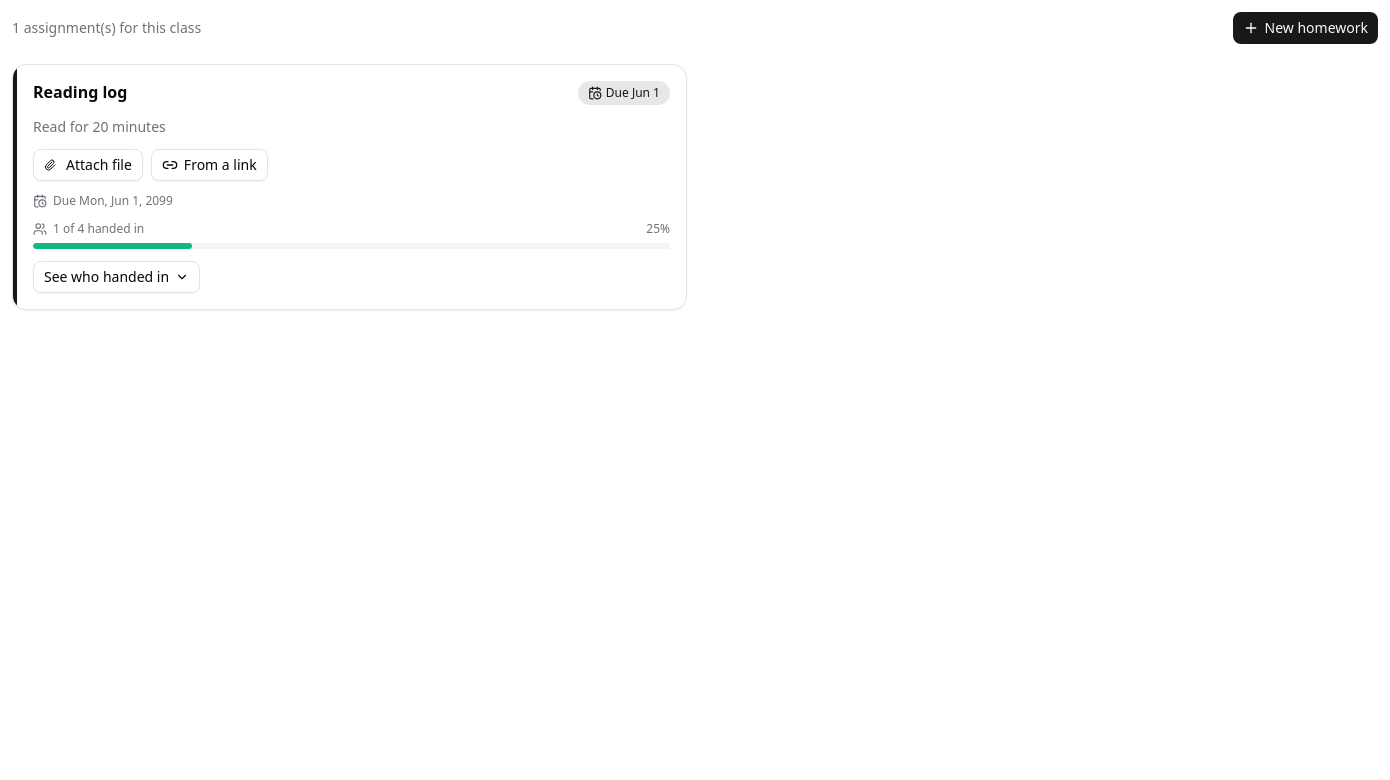
Test case: homework page for a teacher › shows how many have handed in, lists who, and opens the form for new homework
Check: the text "1 of 4 handed in" is shown, box [33,221,144,237]
Click the button "See who handed in": (117,277) [33,261,200,293]
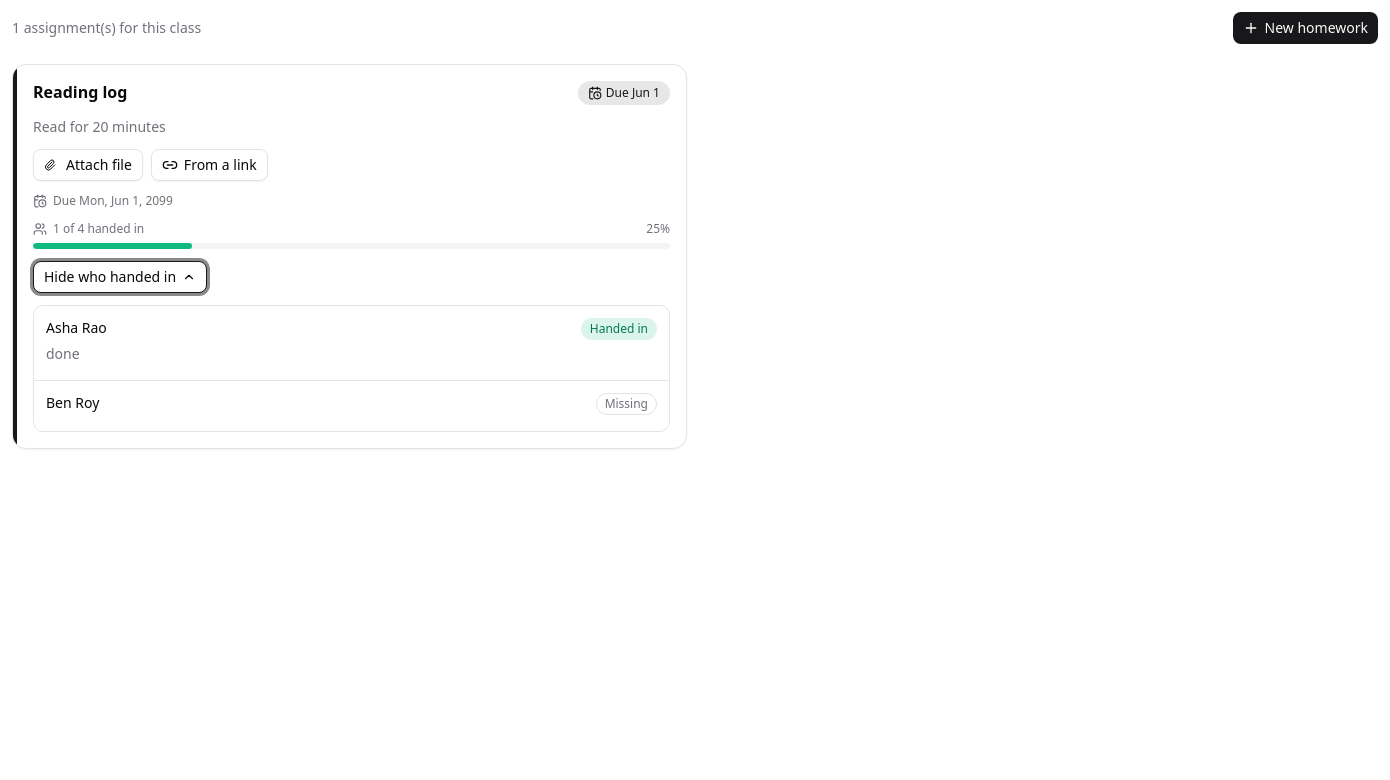
Check: the text "Ben Roy" is shown, box [46,393,99,412]
Check: the text "Missing" is shown, box [596,393,657,415]
Click the button "New homework": (1305,28) [1232,12,1378,44]
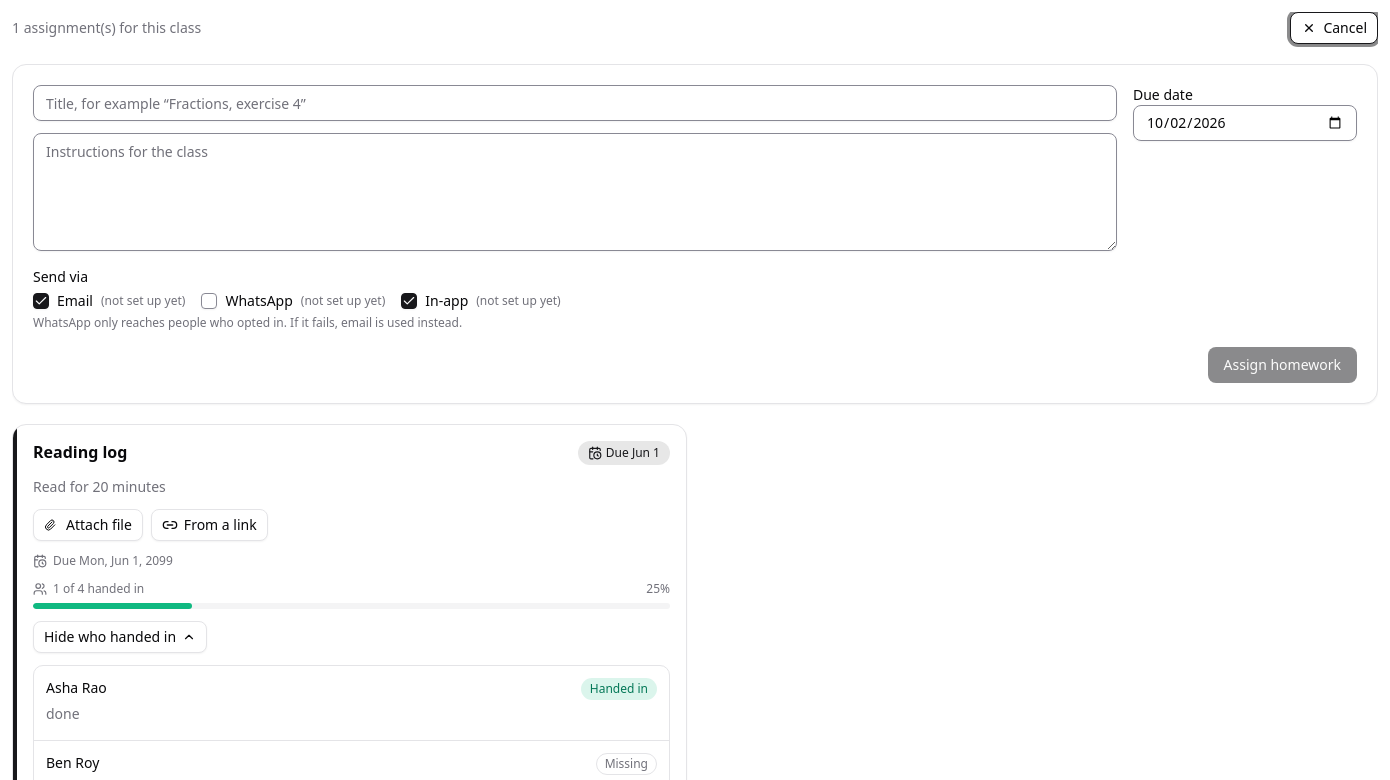
Check: the button "Assign homework" is disabled, box [1208,347,1357,383]
